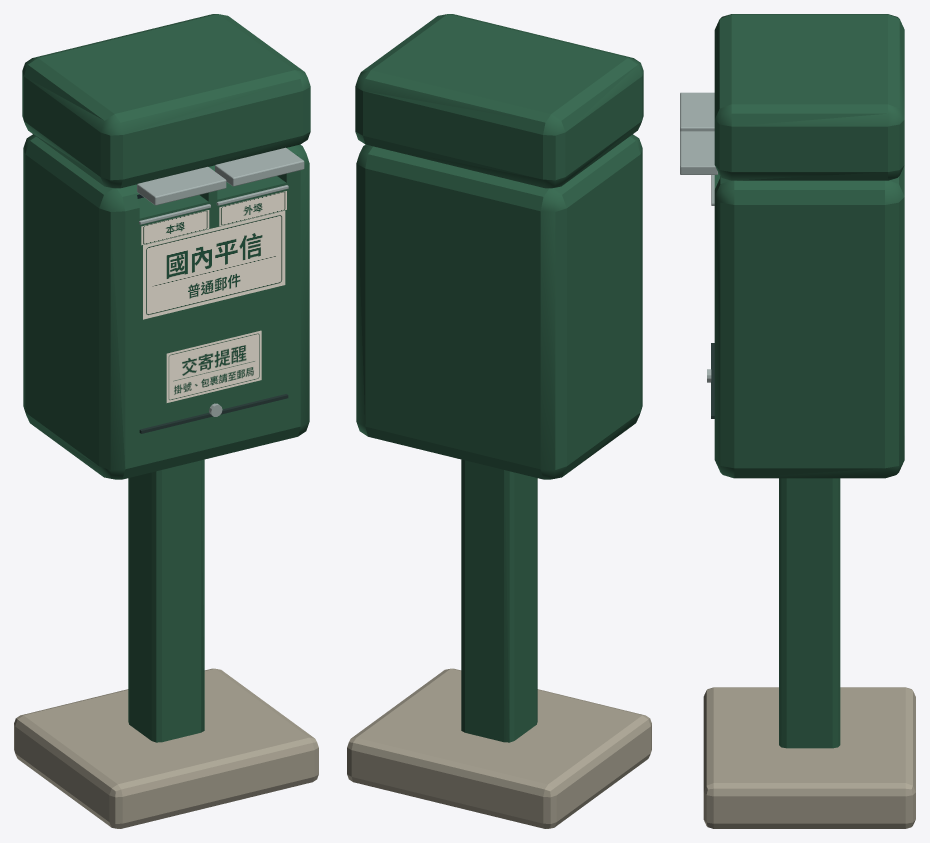
The picture shows the model from 3 angles, left to right: view 1: azimuth 30°, elevation 25°; view 2: azimuth 150°, elevation 25°; view 3: azimuth 270°, elevation 25°; orthographic projection. The views are drawn at different scales.
Visible parts, largest first — view 1: 01_Postbox_Green; view 2: 01_Postbox_Green; view 3: 01_Postbox_Green.
Boxes of the visible parts, left/top/right/bottom form: 01_Postbox_Green: left=14, top=14, right=318, bottom=828; 01_Postbox_Green: left=347, top=14, right=651, bottom=828; 01_Postbox_Green: left=680, top=14, right=915, bottom=828.
Bounding box in the file's own units: 0.44 × 1.43 × 0.422.
Materials: 6 (1 with a texture image).
